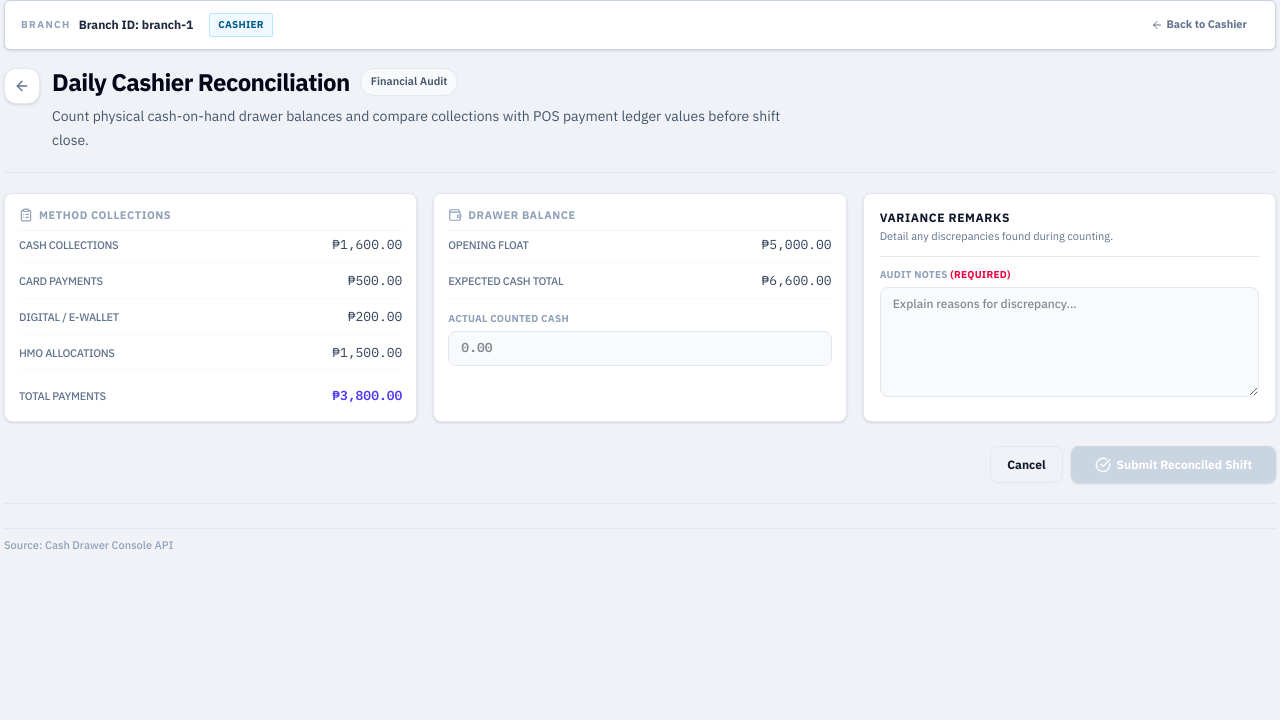
Test: DailyReconciliationPage › shows error when closeSession fails
Type "6600" into the number field with placeholder "0.00" at (640, 348), box x1=448 y1=331 x2=832 y2=366
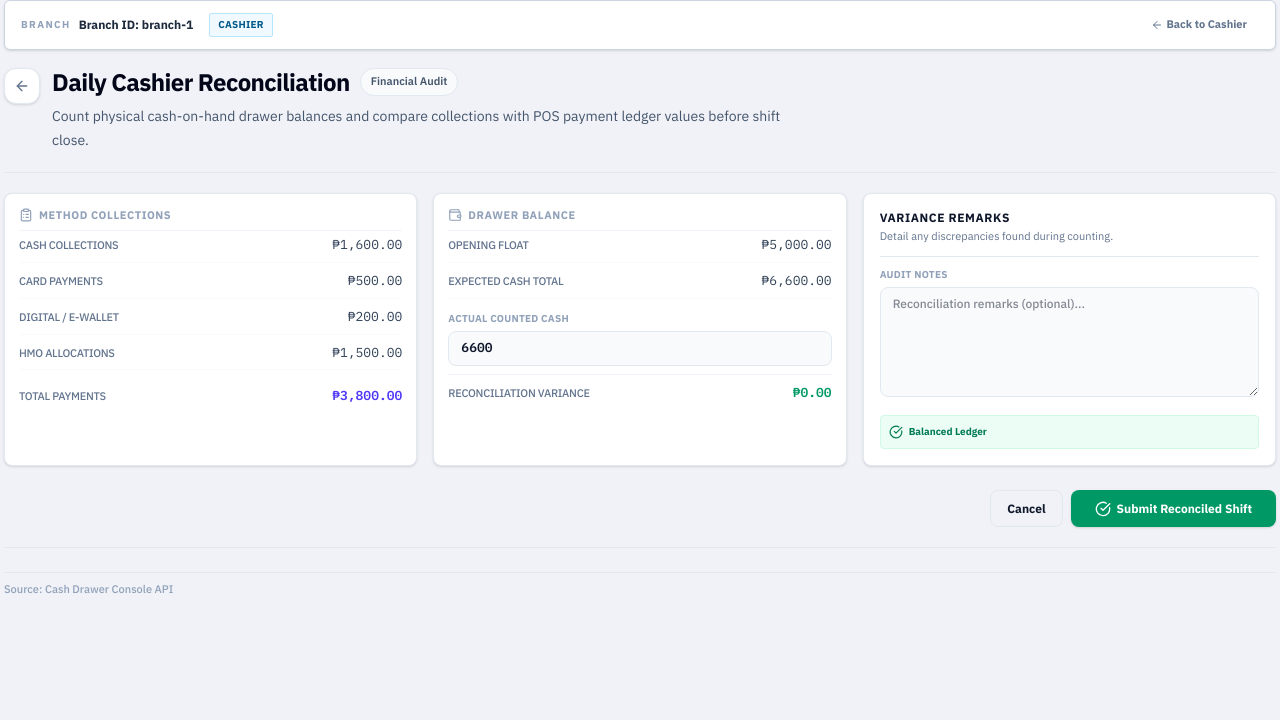
Click the button "Submit Reconciled Shift" at (1173, 509), box x1=1071 y1=490 x2=1276 y2=527
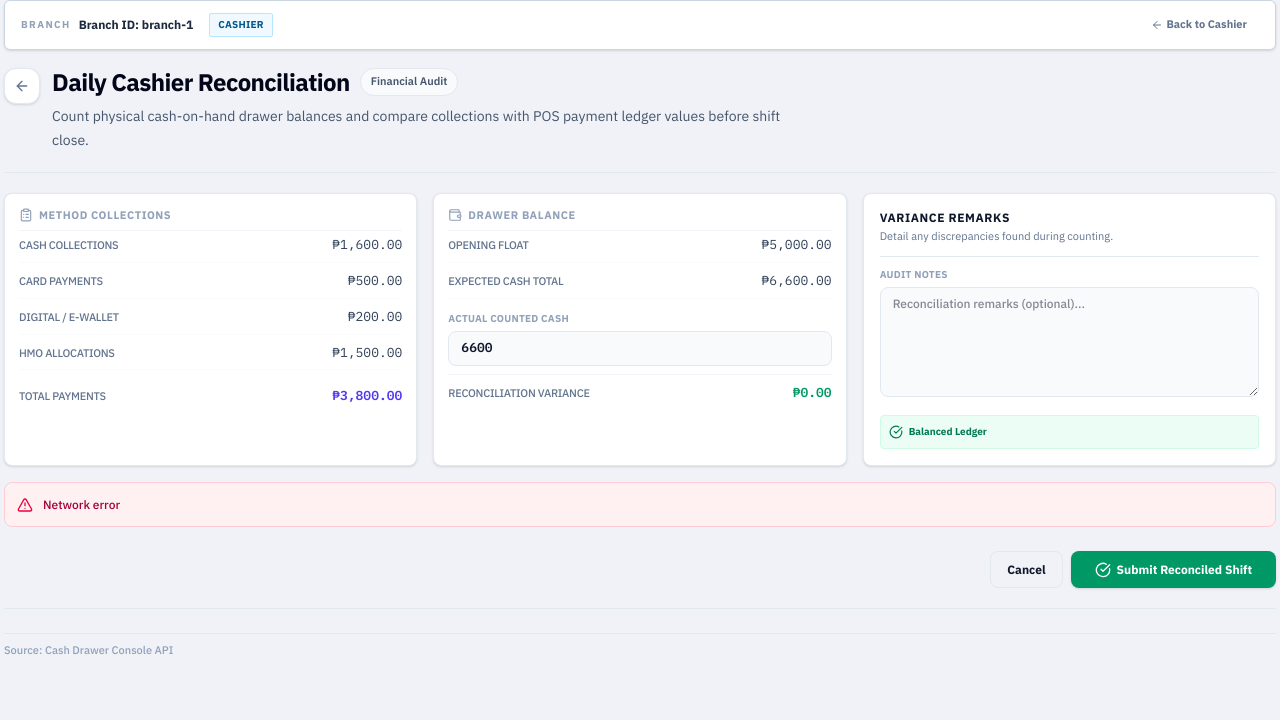
Check: the text "Network error" is shown, box x1=4 y1=482 x2=1276 y2=527
